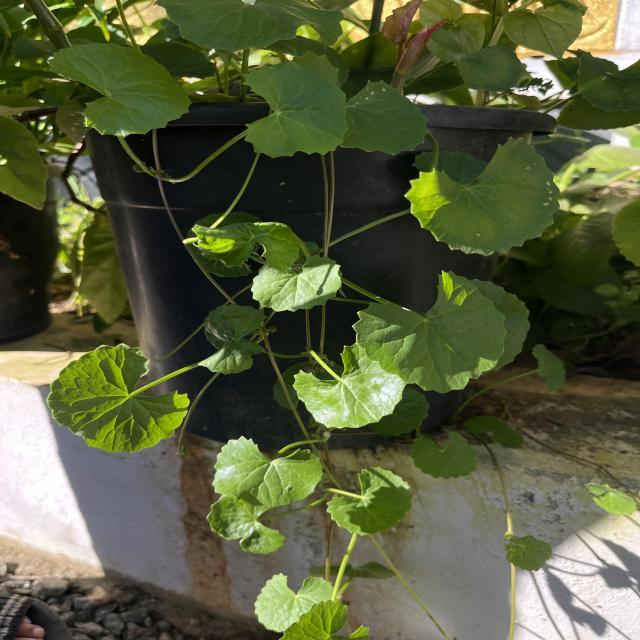Centella asiatica: (399, 132, 564, 260), (350, 269, 508, 396), (44, 342, 192, 455), (44, 37, 196, 142), (241, 58, 352, 162), (290, 342, 408, 431), (210, 434, 326, 510), (336, 77, 432, 158), (248, 251, 346, 314)
